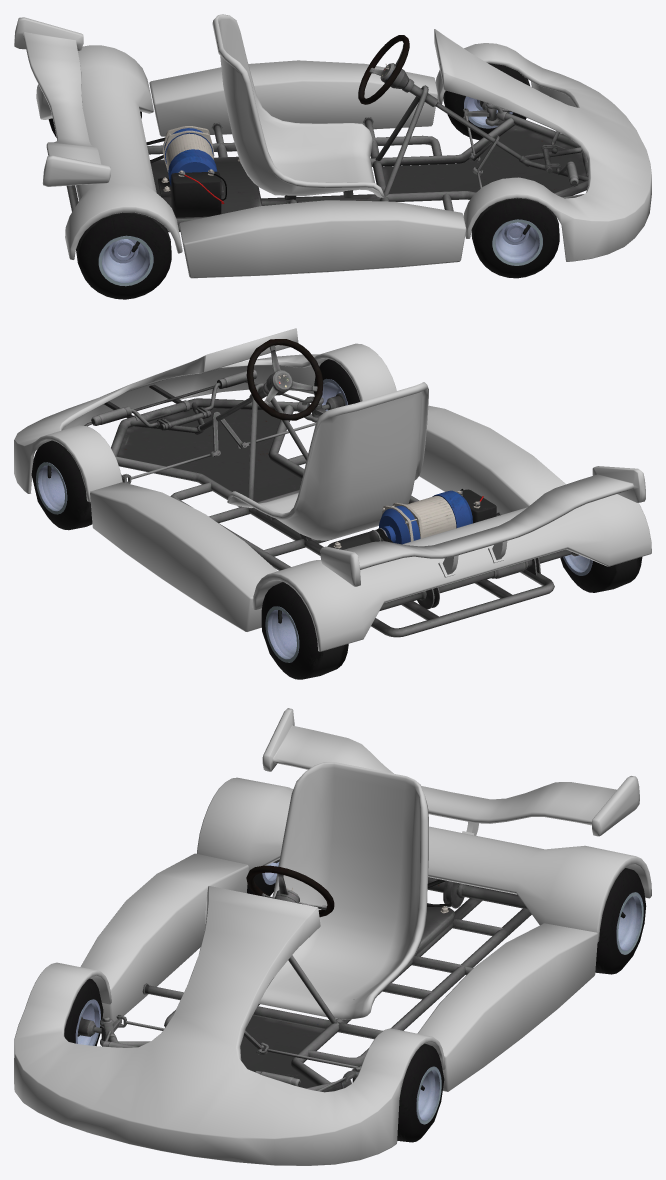
Rendered from GO KART.fbx.
3 views of the same model, one above another, from view 1: azimuth 30°, elevation 25°; view 2: azimuth 150°, elevation 25°; view 3: azimuth 270°, elevation 25° (orthographic). The views are drawn at different scales.
Visible parts, largest first — view 1: MOD_GoKart.mo; view 2: MOD_GoKart.mo; view 3: MOD_GoKart.mo.
Part boxes in pixels (box(x1,y1,x2,y2)): MOD_GoKart.mo: box(14, 14, 651, 299); MOD_GoKart.mo: box(14, 328, 651, 679); MOD_GoKart.mo: box(14, 708, 651, 1165).
Bounding box in the file's own units: 235 × 71.57 × 195.
